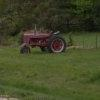Tractor: (13, 22, 78, 65)
